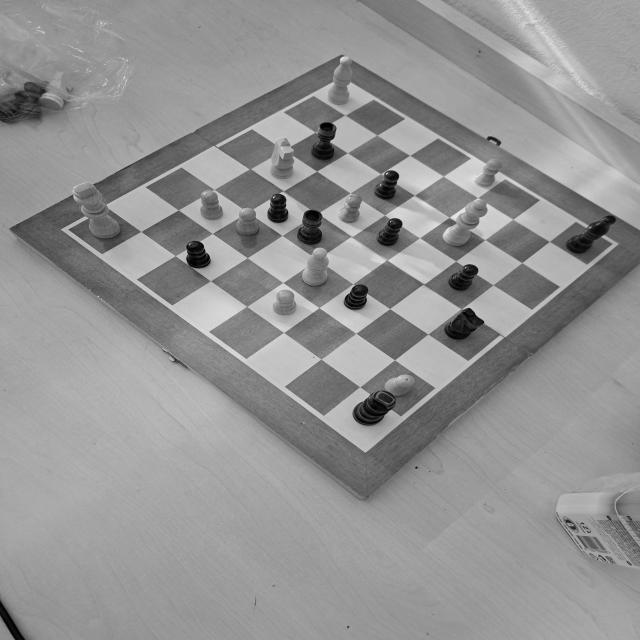chess-table-corners: (350, 437, 380, 455), (330, 74, 356, 90), (56, 222, 81, 238), (601, 237, 622, 251)
